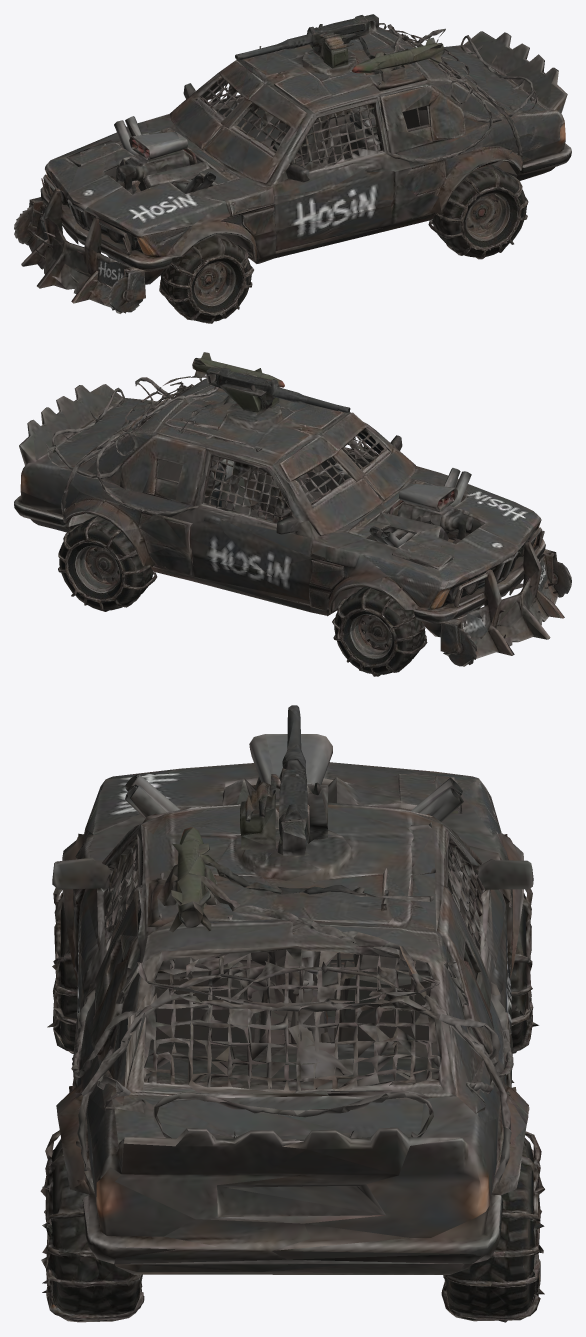
The model's file is warhorse.glb.
3 renders of one model, top to bottom at view 1: azimuth 30°, elevation 25°; view 2: azimuth 150°, elevation 25°; view 3: azimuth 270°, elevation 25°, orthographic. The views are drawn at different scales.
Visible parts, largest first — view 1: Mesh_0; view 2: Mesh_0; view 3: Mesh_0.
Part boxes in pixels (x1=…): Mesh_0: x1=14, y1=14, x2=571, y2=323; Mesh_0: x1=14, y1=352, x2=571, y2=676; Mesh_0: x1=40, y1=705, x2=544, y2=1322.
Size of the model in its own units: 1.9 by 0.8017 by 0.8362.
Materials: 1 (1 with a texture image).
